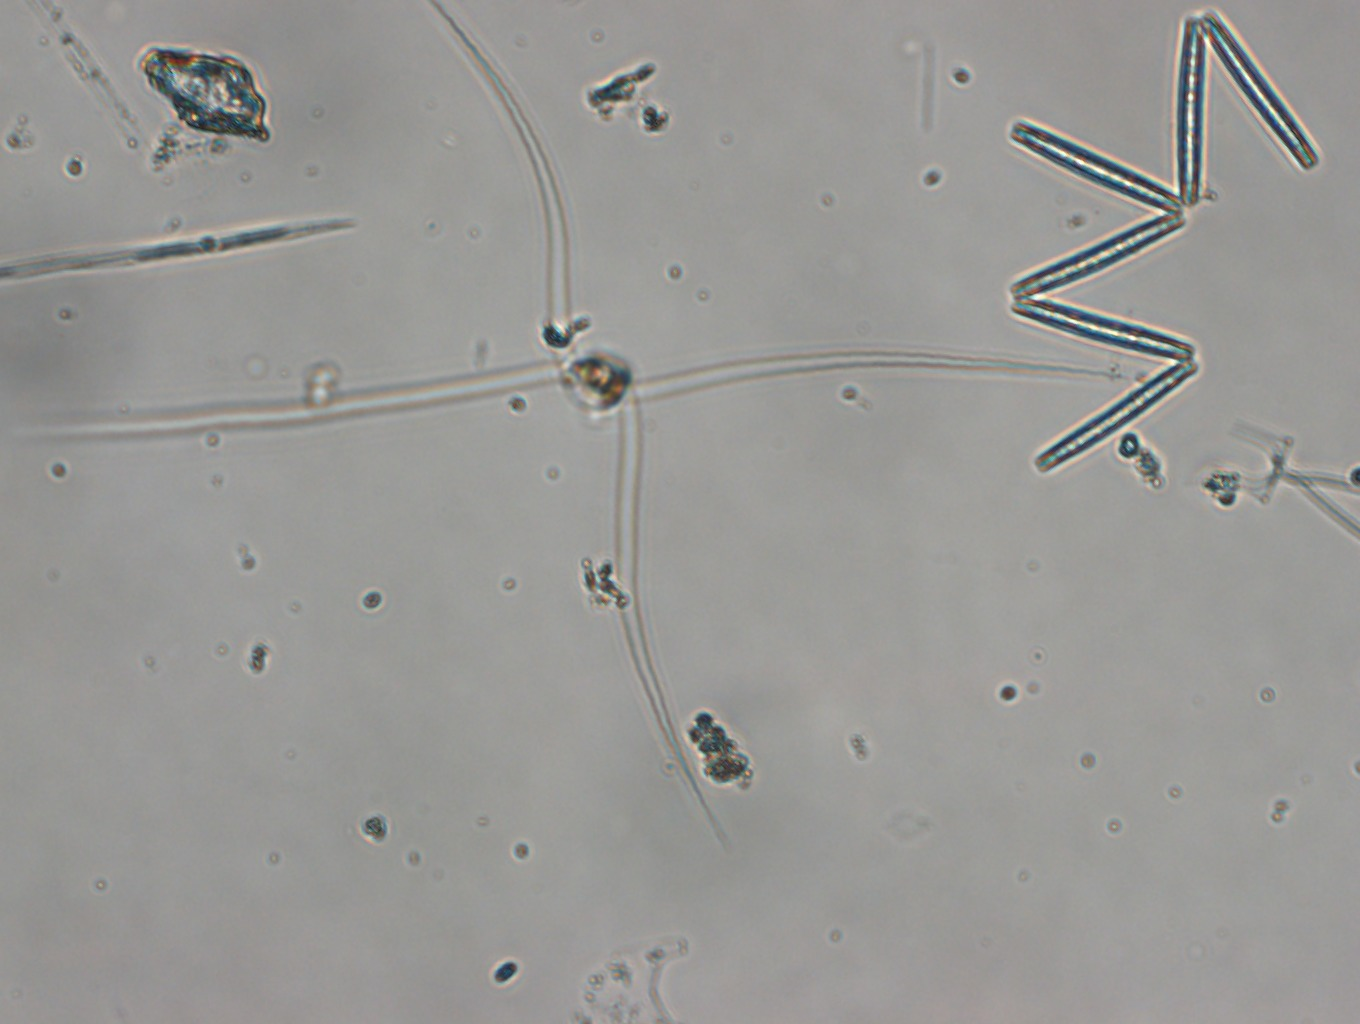thalassionema nitzschioides: (990, 9, 1322, 486)
